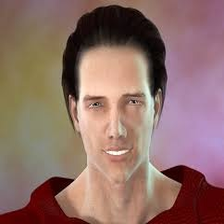no_mask: (79, 48, 155, 187)
